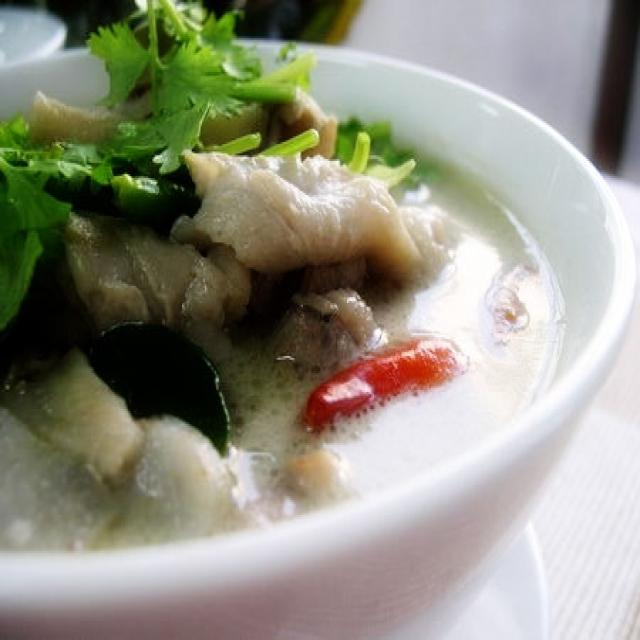汤锅炖物: (3, 26, 611, 598)
